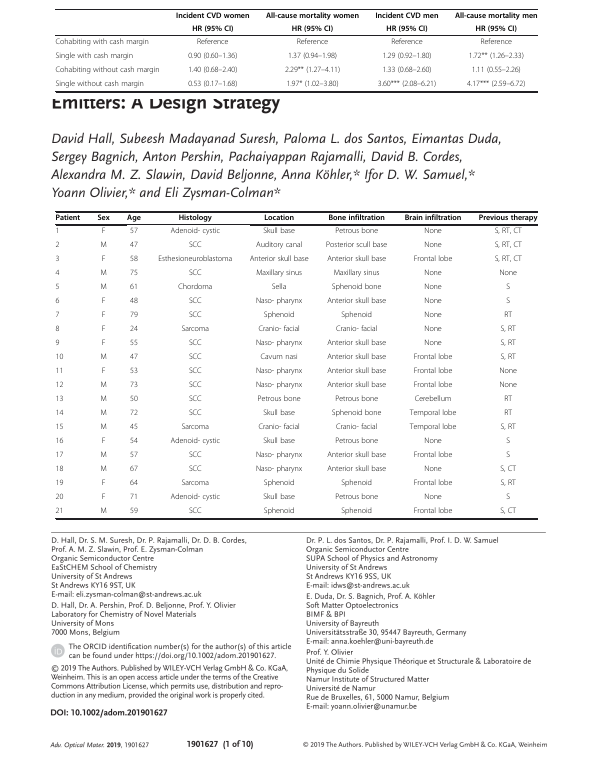borderless: (54, 210, 537, 518), (54, 7, 537, 91)
cell: (54, 65, 160, 75), (54, 37, 150, 47), (55, 79, 145, 89), (265, 11, 360, 20), (54, 51, 134, 61), (157, 255, 233, 265), (454, 11, 538, 20), (175, 11, 250, 20), (325, 241, 388, 251), (326, 255, 387, 265), (326, 297, 387, 307), (326, 339, 387, 349), (326, 353, 387, 363), (326, 367, 387, 377), (326, 381, 387, 391), (326, 451, 387, 461), (326, 465, 387, 475), (249, 255, 309, 265), (377, 79, 437, 89), (466, 79, 526, 89), (374, 11, 439, 20), (468, 51, 525, 61), (284, 65, 341, 75), (478, 214, 538, 223), (285, 79, 339, 89), (327, 214, 386, 223), (404, 214, 462, 223), (169, 227, 221, 237), (169, 437, 221, 447), (169, 493, 221, 503), (331, 283, 382, 293), (331, 409, 382, 419), (187, 51, 238, 61), (287, 51, 338, 61), (381, 51, 432, 61), (187, 65, 238, 75), (381, 65, 432, 75), (471, 65, 522, 75), (187, 79, 238, 89), (255, 241, 303, 251), (255, 269, 303, 279), (255, 297, 303, 307), (255, 339, 303, 349), (255, 367, 303, 377), (255, 381, 303, 391), (409, 409, 457, 419), (409, 423, 457, 433), (255, 451, 303, 461), (255, 465, 303, 475), (333, 269, 380, 279), (334, 227, 379, 237), (334, 395, 379, 405), (334, 437, 379, 447), (334, 493, 379, 503), (257, 325, 301, 335), (257, 395, 301, 405), (257, 423, 301, 433), (335, 325, 378, 335), (335, 423, 378, 433), (191, 24, 234, 34), (291, 24, 334, 34), (385, 24, 428, 34), (475, 24, 518, 34), (413, 255, 453, 265), (259, 353, 299, 363), (413, 353, 453, 363), (413, 367, 453, 377), (413, 381, 453, 391), (413, 451, 453, 461), (413, 479, 453, 489), (413, 507, 453, 517), (414, 395, 452, 405), (177, 283, 213, 293), (262, 227, 296, 237), (262, 409, 296, 419), (262, 437, 296, 447), (262, 493, 296, 503), (390, 37, 424, 47), (479, 37, 513, 47), (340, 311, 373, 321), (340, 479, 373, 489), (340, 507, 373, 517), (196, 37, 229, 47), (296, 37, 329, 47), (263, 311, 295, 321), (263, 479, 295, 489), (263, 507, 295, 517), (178, 214, 213, 223), (180, 325, 210, 335), (180, 423, 210, 433), (180, 479, 210, 489), (494, 227, 523, 237), (494, 241, 523, 251), (494, 255, 523, 265), (263, 214, 295, 223), (55, 214, 81, 223), (423, 227, 443, 237), (423, 241, 443, 251), (423, 269, 443, 279), (498, 269, 518, 279), (423, 283, 443, 293), (423, 297, 443, 307), (423, 311, 443, 321), (423, 325, 443, 335), (423, 339, 443, 349), (498, 367, 518, 377), (498, 381, 518, 391), (423, 437, 443, 447), (423, 465, 443, 475), (423, 493, 443, 503), (499, 465, 517, 475), (499, 507, 517, 517), (500, 325, 517, 335), (500, 339, 517, 349), (500, 353, 517, 363), (500, 423, 517, 433), (500, 479, 517, 489), (271, 283, 287, 293), (126, 214, 142, 223), (188, 241, 202, 251), (188, 269, 202, 279), (188, 297, 202, 307), (188, 311, 202, 321), (188, 339, 202, 349), (188, 353, 202, 363), (188, 367, 202, 377), (188, 381, 202, 391), (188, 395, 202, 405), (188, 409, 202, 419), (188, 451, 202, 461), (188, 465, 202, 475), (188, 507, 202, 517), (96, 214, 111, 223), (129, 227, 139, 237), (129, 241, 139, 251), (129, 255, 139, 265), (129, 269, 139, 279), (129, 283, 139, 293), (129, 297, 139, 307), (129, 311, 139, 321), (503, 311, 513, 321), (129, 325, 139, 335), (129, 339, 139, 349), (129, 353, 139, 363), (129, 367, 139, 377), (129, 381, 139, 391), (129, 395, 139, 405), (503, 395, 513, 405), (129, 409, 139, 419), (503, 409, 513, 419), (129, 423, 139, 433), (129, 437, 139, 447), (129, 451, 139, 461), (129, 465, 139, 475), (129, 479, 139, 489), (129, 493, 139, 503), (129, 507, 139, 517), (99, 241, 108, 251), (99, 269, 108, 279), (99, 283, 108, 293), (55, 353, 64, 363), (99, 353, 108, 363), (55, 367, 64, 377), (55, 381, 64, 391), (99, 381, 108, 391), (55, 395, 64, 405), (99, 395, 108, 405), (55, 409, 64, 419), (99, 409, 108, 419), (55, 423, 64, 433), (99, 423, 108, 433), (55, 437, 64, 447), (55, 451, 64, 461), (99, 451, 108, 461), (55, 465, 64, 475), (99, 465, 108, 475), (55, 479, 64, 489), (55, 493, 64, 503), (55, 507, 64, 517), (99, 507, 108, 517), (505, 283, 511, 293), (505, 297, 511, 307), (505, 437, 511, 447), (505, 451, 511, 461), (505, 493, 511, 503), (55, 227, 60, 237), (101, 227, 106, 237), (55, 241, 60, 251), (55, 255, 60, 265), (101, 255, 106, 265), (55, 269, 60, 279), (55, 283, 60, 293), (55, 297, 60, 307), (101, 297, 106, 307), (55, 311, 60, 321), (101, 311, 106, 321), (55, 325, 60, 335), (101, 325, 106, 335), (55, 339, 60, 349), (101, 339, 106, 349), (101, 367, 106, 377), (101, 437, 106, 447), (101, 479, 106, 489), (101, 493, 106, 503)
